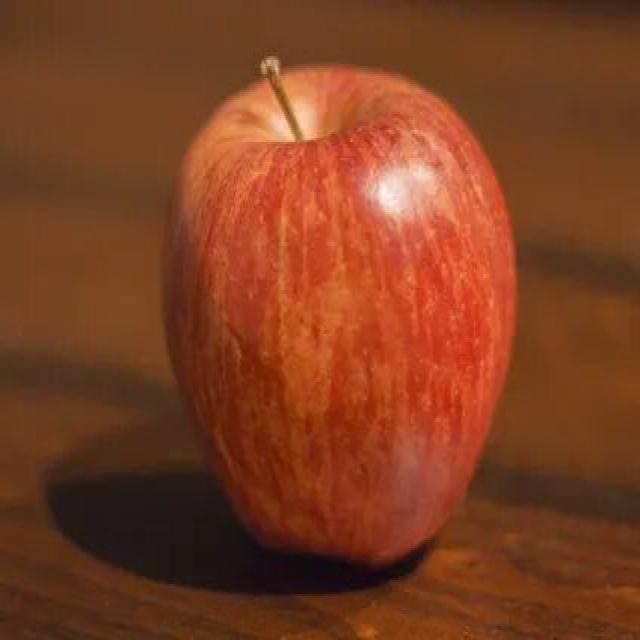Fresh Apple: (160, 63, 530, 562)
